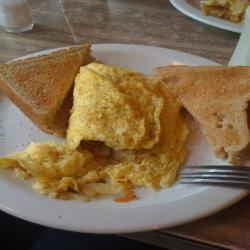bread: (159, 60, 250, 169), (1, 43, 90, 133)
omelette: (47, 61, 194, 199)
